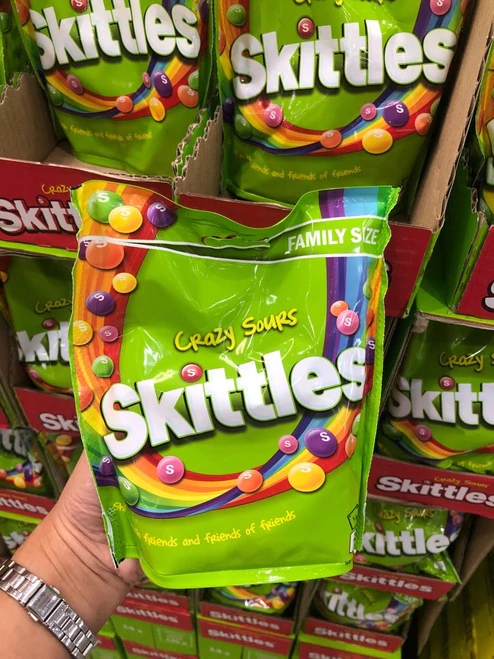Skittles: (77, 243, 358, 577), (79, 356, 396, 458), (33, 1, 195, 176)
